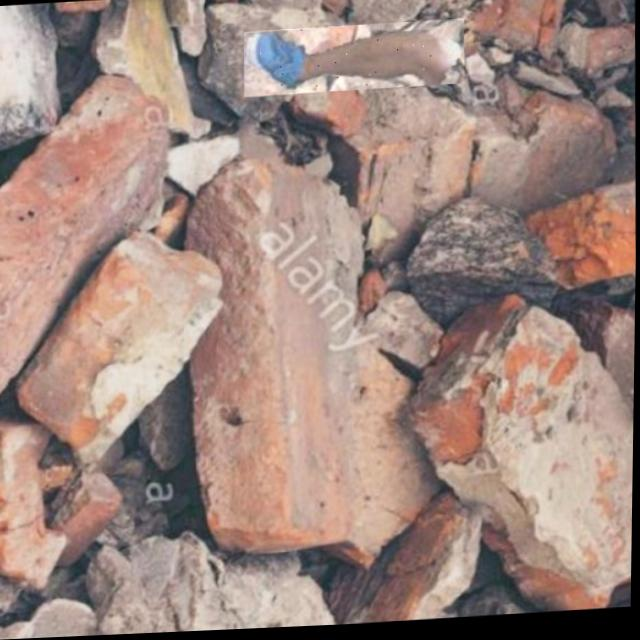Person in Rubble: (242, 22, 464, 99)
